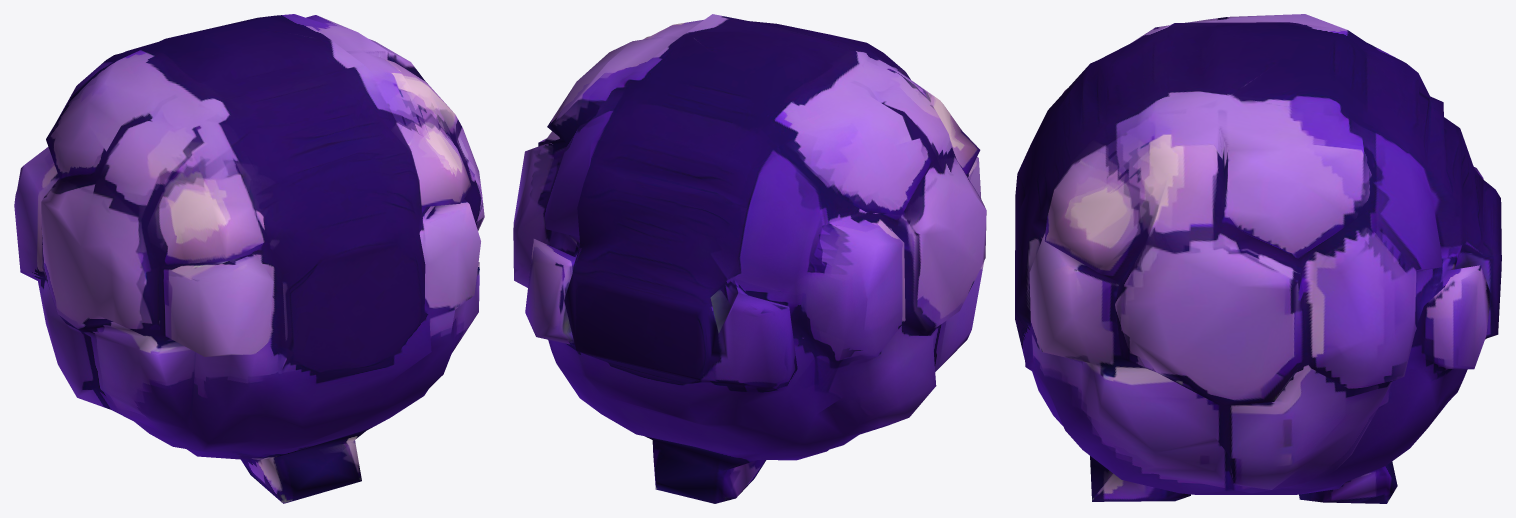
The model's file is tripo_convert_6f211c92-df94-48ac-82c8-ea8da1ff1ae7.fbx.
The picture shows the model from 3 angles, left to right: view 1: azimuth 30°, elevation 25°; view 2: azimuth 150°, elevation 25°; view 3: azimuth 270°, elevation 25°; orthographic projection. The views are drawn at different scales.
Visible parts, largest first — view 1: tripo_node_6f211c92; view 2: tripo_node_6f211c92; view 3: tripo_node_6f211c92.
Part boxes in pixels (x1,y1,x2,y2): tripo_node_6f211c92: (14,14,484,503); tripo_node_6f211c92: (513,14,986,503); tripo_node_6f211c92: (1015,14,1501,503).
Bounding box in the file's own units: 0.9996 × 0.9976 × 0.9984.
Materials: 1 (1 with a texture image).
